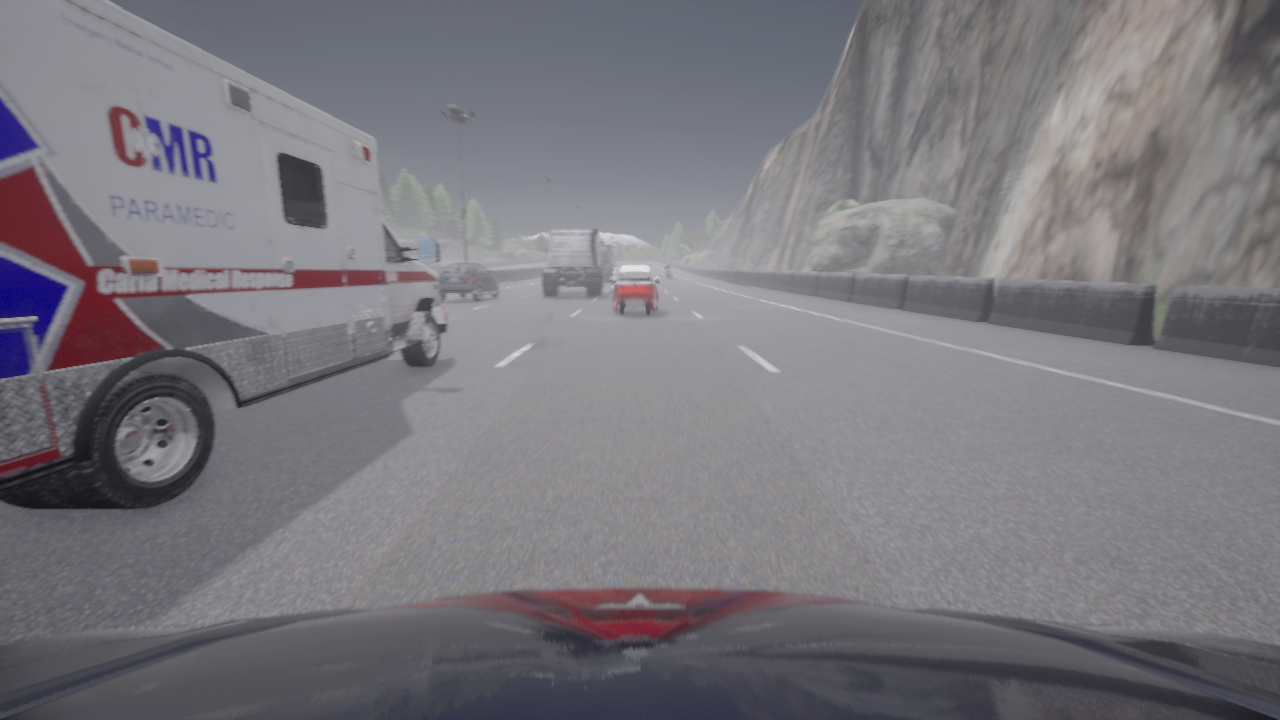cyclist: (0, 588, 1279, 719), (541, 228, 604, 297), (437, 262, 498, 301), (611, 266, 659, 315), (600, 244, 618, 281), (667, 268, 670, 279)
